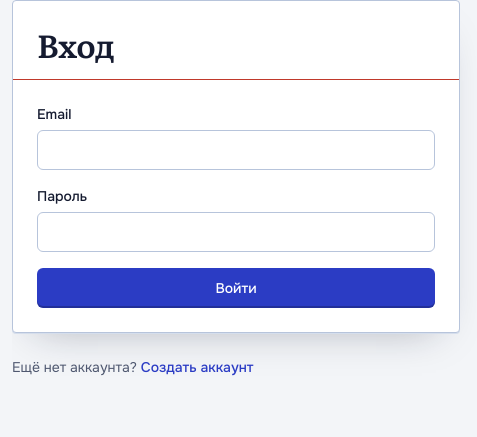
it: LoginForm › shows Russian validation messages
This screenshot has width=477, height=437.
Click the button "Войти". click: (236, 288)
box: [37, 268, 435, 308]
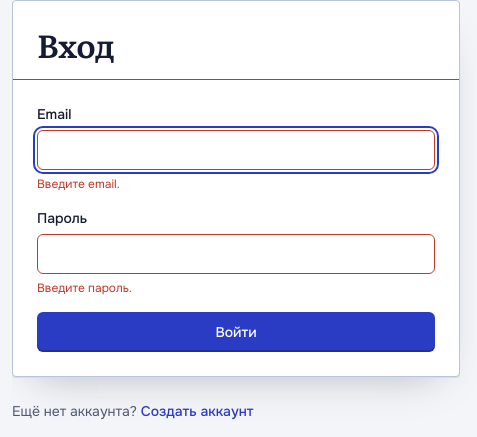
Now the text "Введите email." is shown, box [37, 176, 120, 192]
Now the text "Введите пароль." is shown, box [37, 280, 132, 296]
